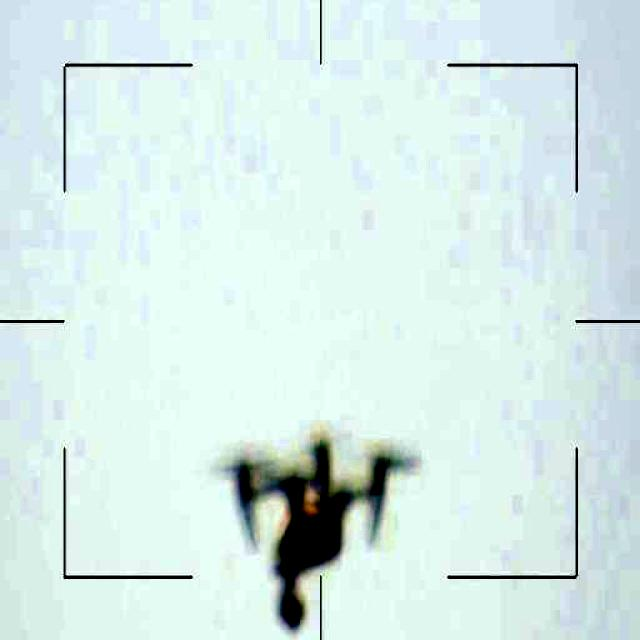bird: (212, 430, 394, 629)
